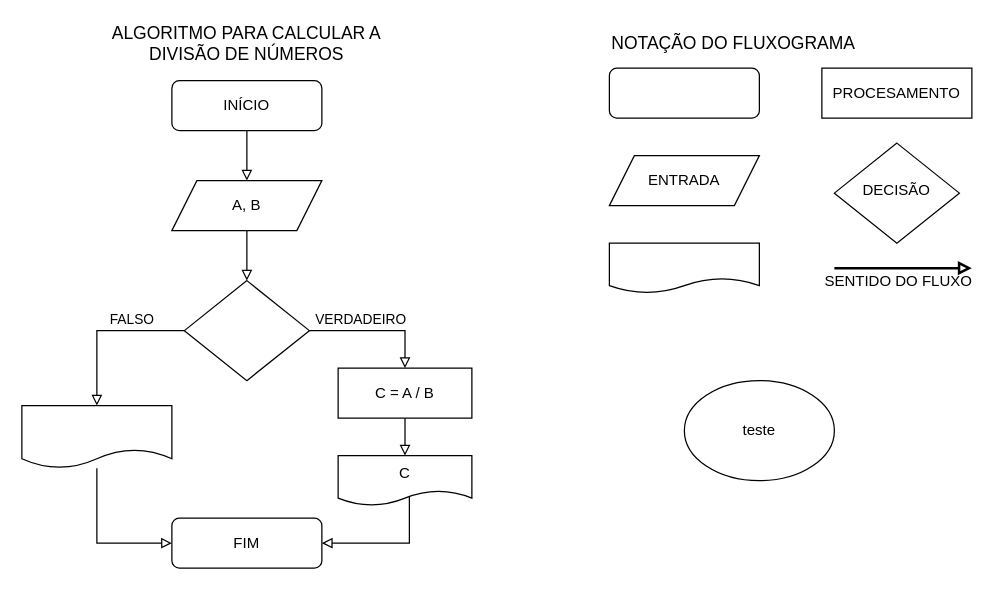
The diagram is 1005 pixels wide and 590 high, and some of its shapes have lost their labels. Here are the shapes that lost their labels. From the top down, the centre of each, then its label:
the point at 683,92: INÍCIO / FIM
the point at 683,267: SAÍDA
the point at 246,330: B <> 0
the point at 96,436: DIVISÃO POR ZERO
